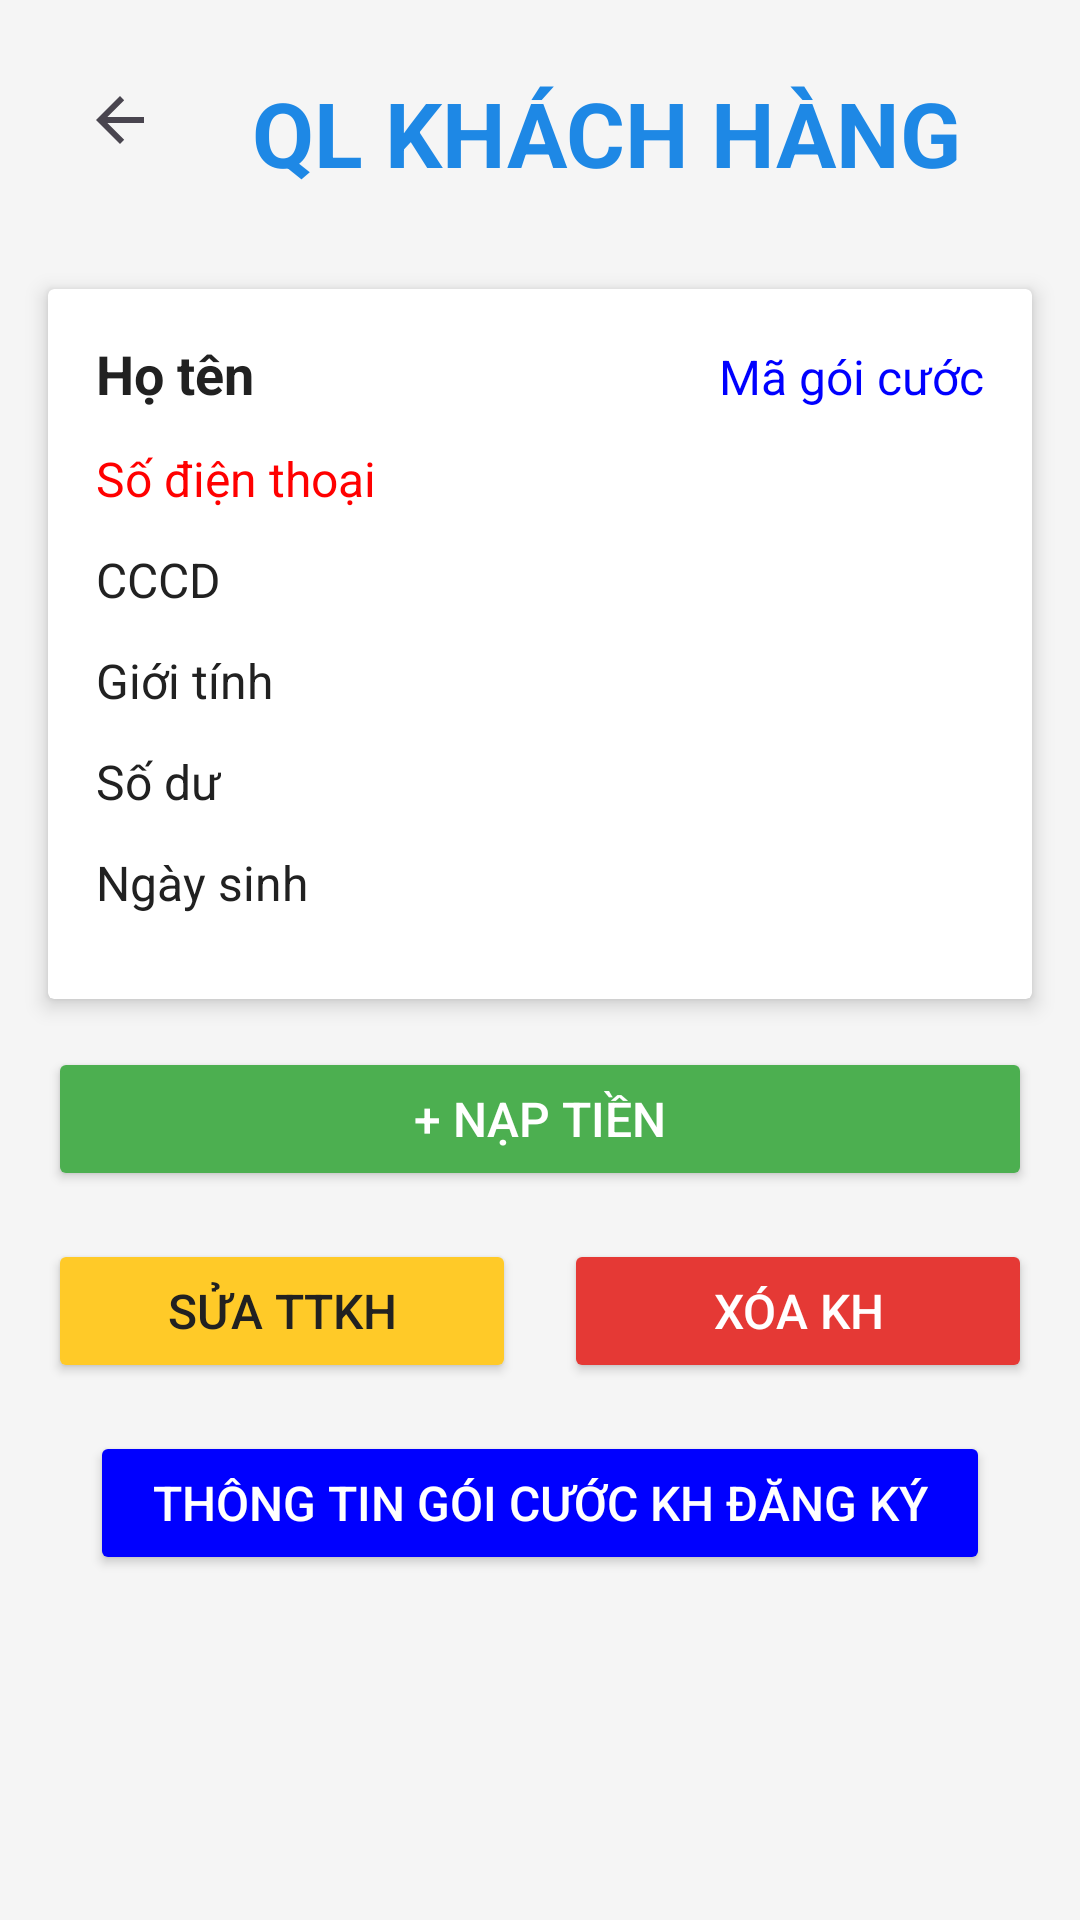

Icon bounding boxes for this 1080 × 1920 phone screenshot, format BBox(x1, y1, x2, y2):
Nút quay lại: BBox(96, 96, 144, 144)
